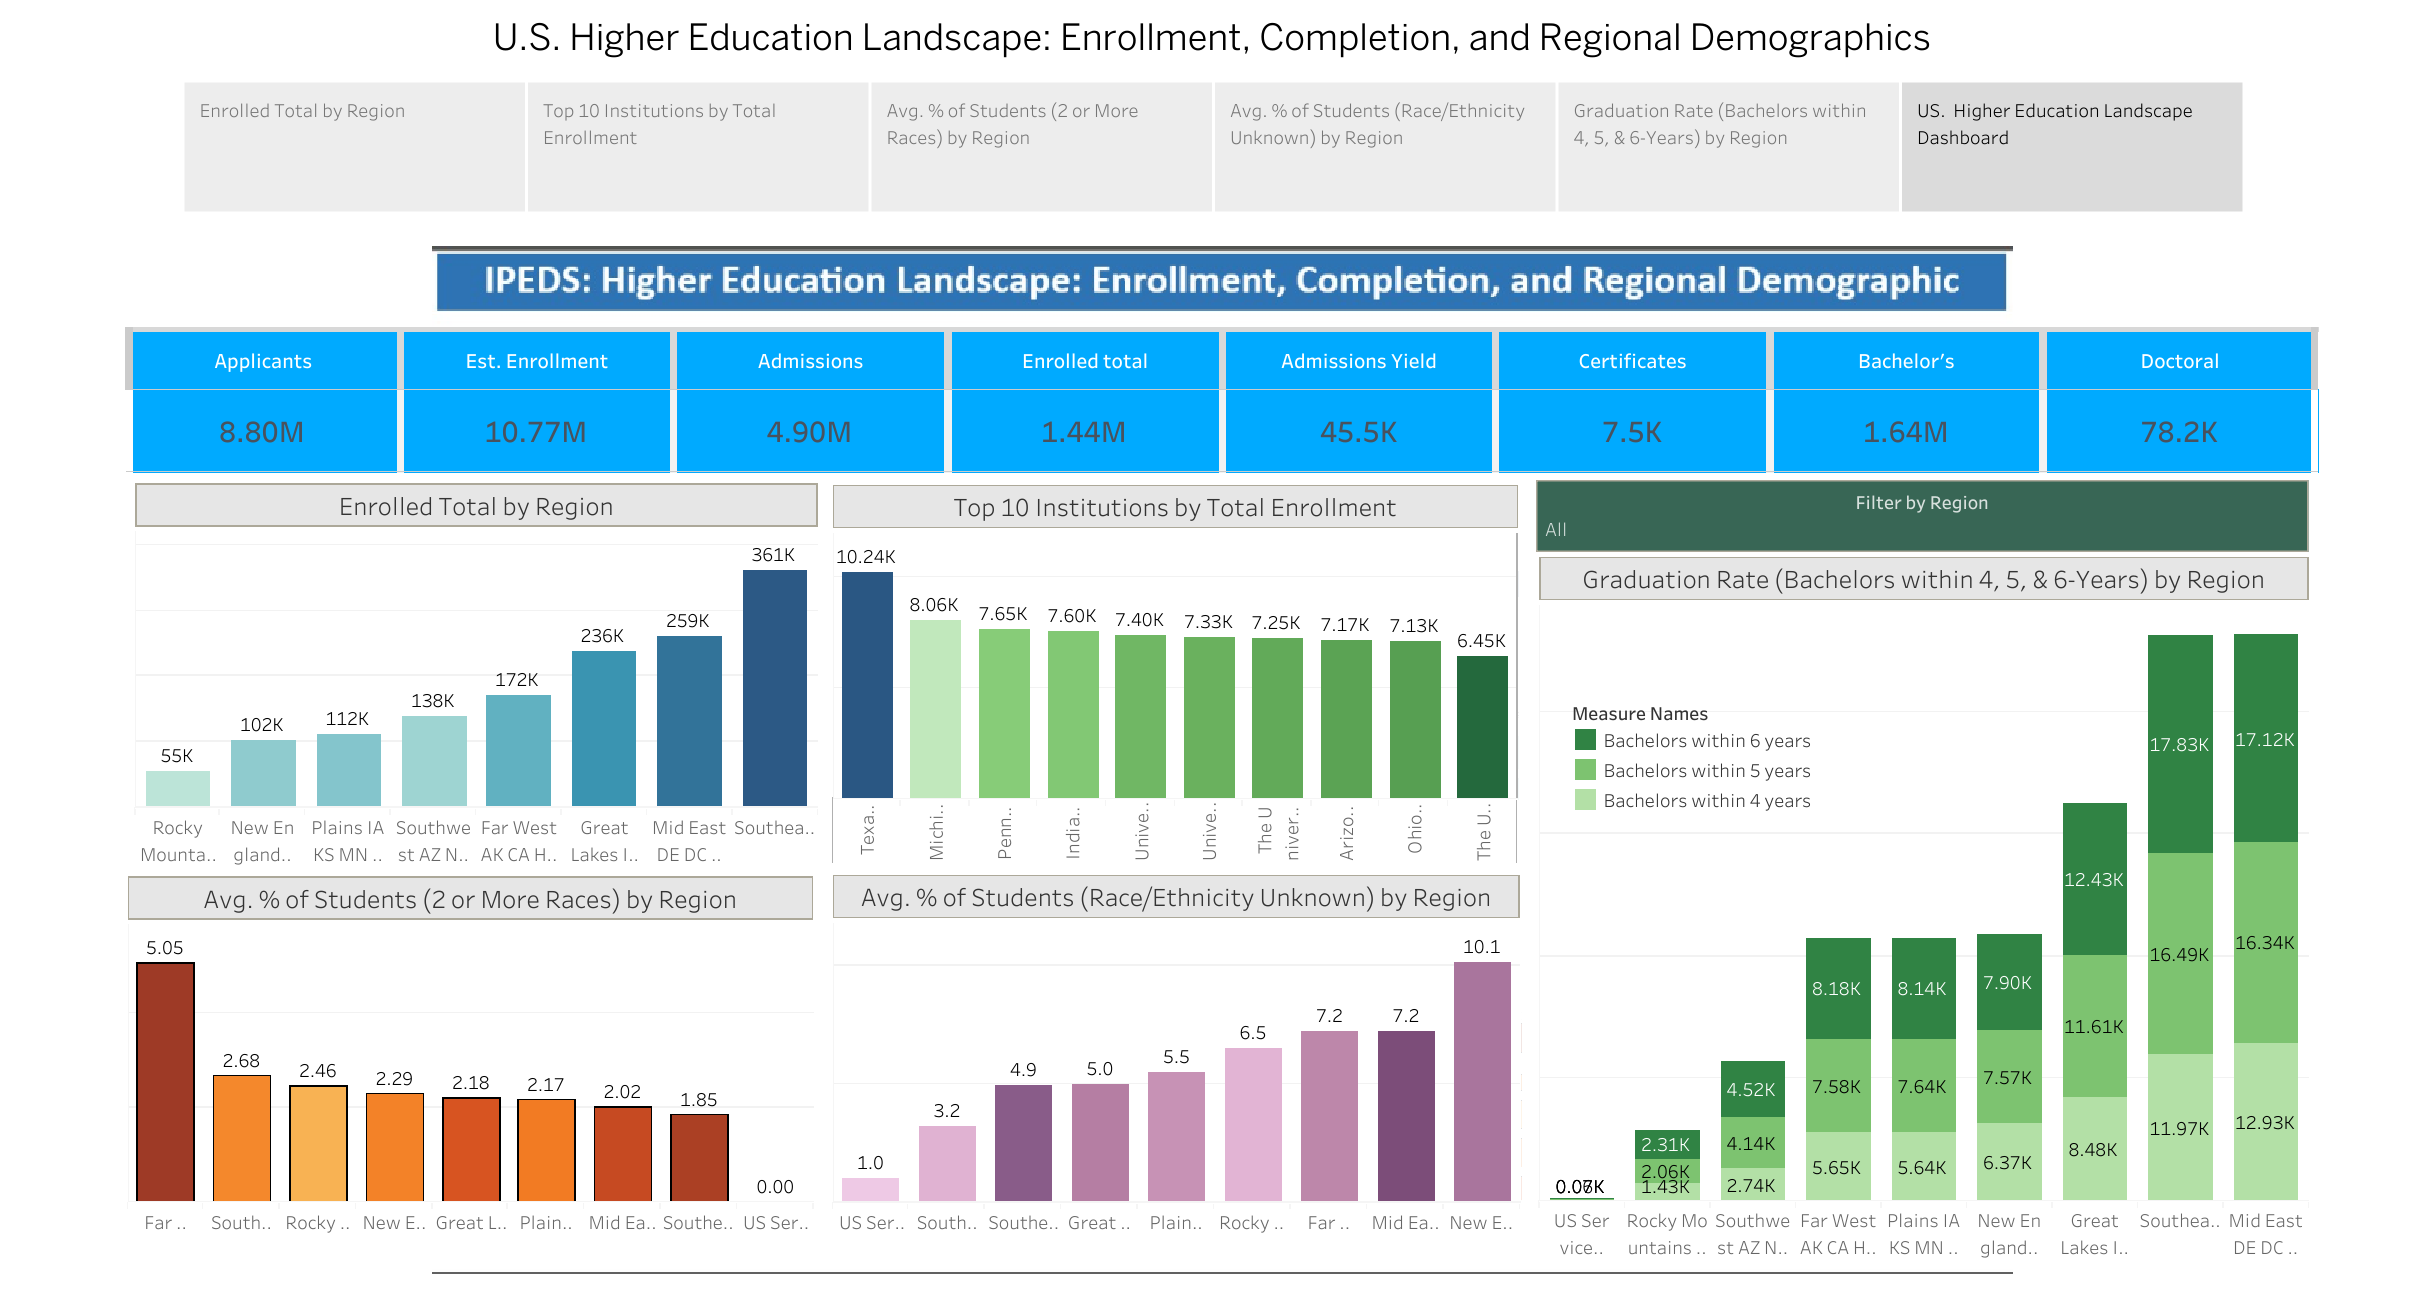

What the dashboard file says about the page in this screenshot:
{"tool":"tableau","page":{"name":"IPEDS Dashboard","canvas":[1000,1000],"units":"permille","ordinal":1},"visuals":[{"type":"image","param":"Image/Dashboard Layout_IPEDS_01.jpg","box":[9.9,10,984.2,980.1]},{"type":"worksheet","title":"Summary Cards","mark":"Automatic","box":[22.4,72.3,964.5,157.1]},{"type":"filter","title":"Enrolled Total  by Region","param":"[federated.0bdz8qa1xbihwp1df5jav1ethrqk].[none:Geographic region:nk]","box":[642.1,233.2,338.8,68.6]},{"type":"worksheet","title":"Enrolled Total  by Region","mark":"Automatic","rows":["Enrolled total"],"cols":["Geographic region"],"box":[27.6,235.7,299.3,366.6]},{"type":"worksheet","title":"Top 10 Institutions by Total Enrollment","mark":"Automatic","rows":["Enrolled total"],"cols":["Name"],"box":[333.6,236.9,300.7,362.8]},{"type":"worksheet","title":"Graduation Rate by Region - 45-5 Years Bachelors","mark":"Automatic","cols":["Geographic region"],"box":[643.4,306.7,337.5,670.8]},{"type":"legend","title":"Graduation Rate by Region - 45-5 Years Bachelors","param":"[federated.0bdz8qa1xbihwp1df5jav1ethrqk].[:Measure Names]","box":[657.2,438.9,149.3,117.2]},{"type":"worksheet","title":"Avg % of Students (Ethnicity/Race Unknown) by Region","mark":"Automatic","rows":["Percent of total enrollment that are Race/ethnicity unknown"],"cols":["Geographic region"],"box":[333.6,609.7,301.3,365.3]},{"type":"worksheet","title":"Avg % of Students","mark":"Automatic","rows":["Percent of total enrollment that are two or more races"],"cols":["Geographic region"],"box":[24.3,611,300.7,364.1]}]}

Visuals, with their boxes on the dashboard's canvas, which has no fixed pixel size, in thousandths of its width and height (x1, y1, x2, y2). These are canvas units, not pixel positions in the 2423x1295 screenshot, which may show the page scaled, cropped or inside an application window:
image: region(10, 10, 994, 990)
"Summary Cards" worksheet: region(22, 72, 987, 229)
"Enrolled Total  by Region" filter: region(642, 233, 981, 302)
"Enrolled Total  by Region" worksheet: region(28, 236, 327, 602)
"Top 10 Institutions by Total Enrollment" worksheet: region(334, 237, 634, 600)
"Graduation Rate by Region - 45-5 Years Bachelors" worksheet: region(643, 307, 981, 978)
"Graduation Rate by Region - 45-5 Years Bachelors" legend: region(657, 439, 806, 556)
"Avg % of Students (Ethnicity/Race Unknown) by Region" worksheet: region(334, 610, 635, 975)
"Avg % of Students" worksheet: region(24, 611, 325, 975)
